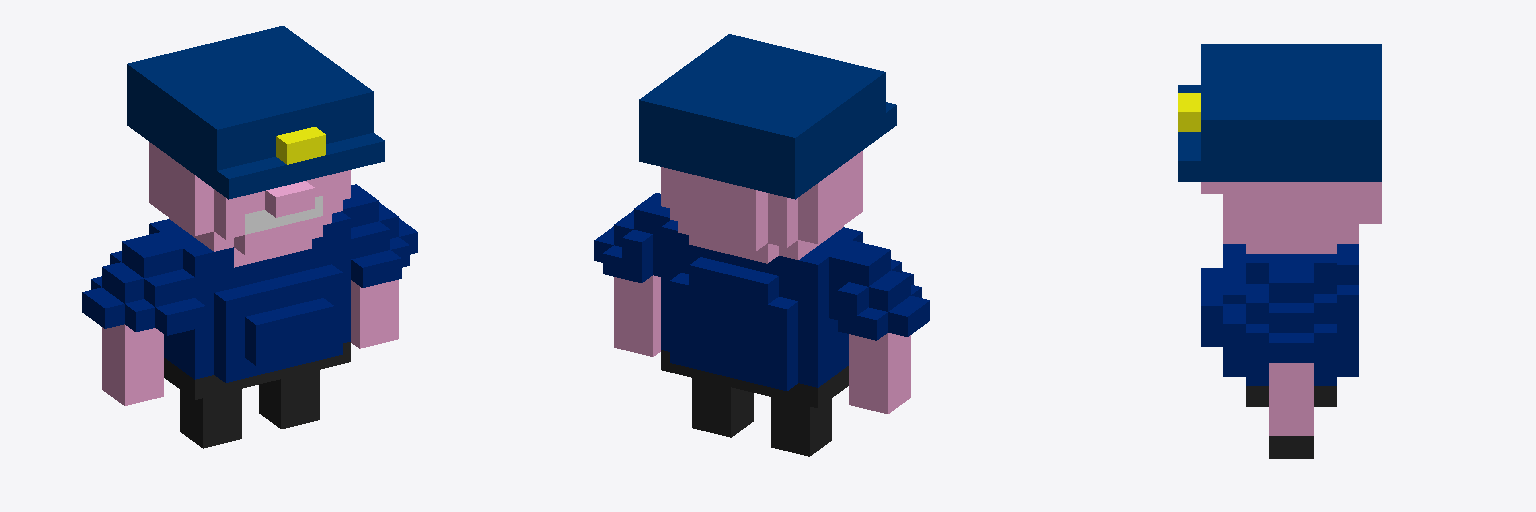
3 renders of one model, left to right at view 1: azimuth 30°, elevation 25°; view 2: azimuth 150°, elevation 25°; view 3: azimuth 270°, elevation 25°, orthographic.
Size of the model in its own units: 16 by 17 by 9.
1 materials, 1 textured.